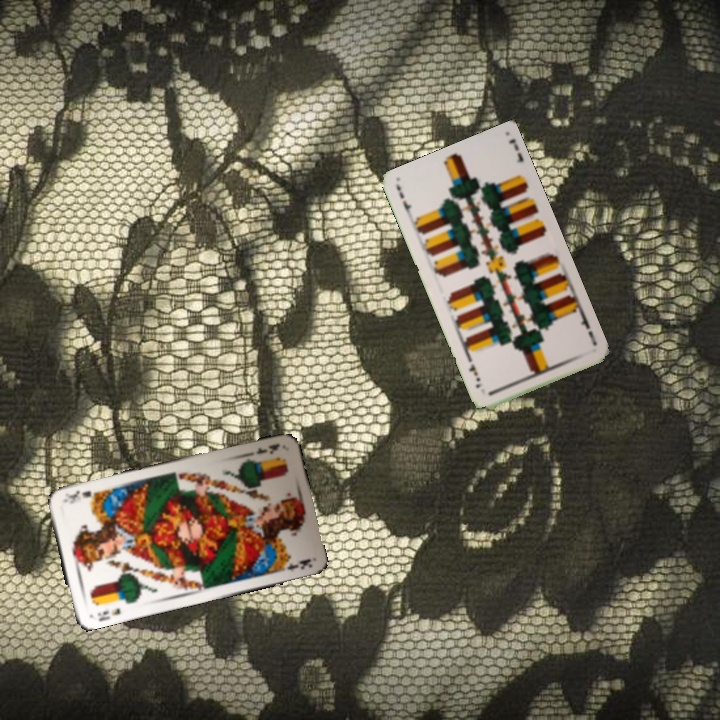E7: (392, 182, 415, 221), (577, 310, 599, 348)
EK: (243, 440, 283, 457), (93, 604, 123, 624)
